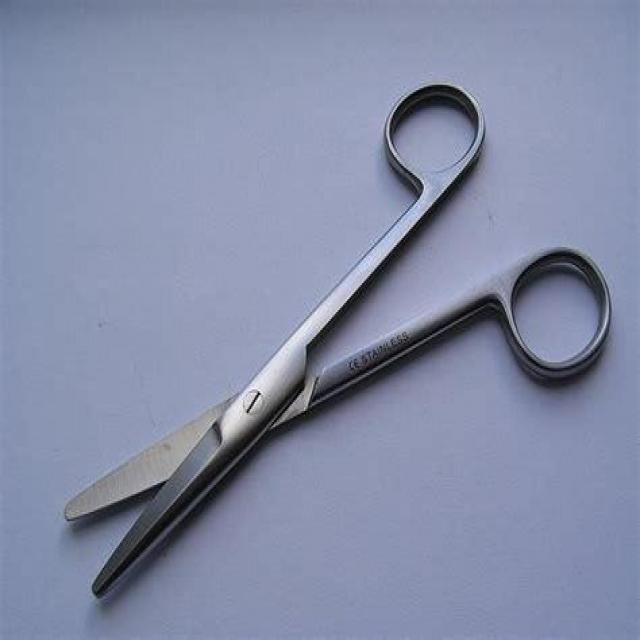Mayo_metz: (62, 72, 619, 606)
